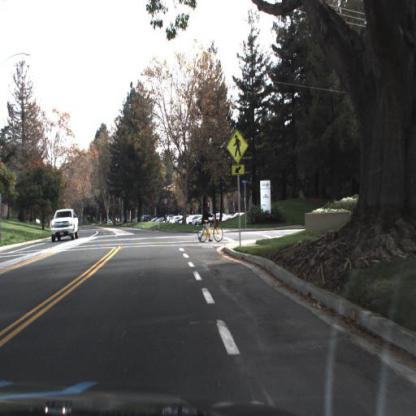car: (50, 208, 80, 243), (50, 209, 79, 245)
pedestrian: (199, 199, 224, 243), (200, 197, 216, 246)
